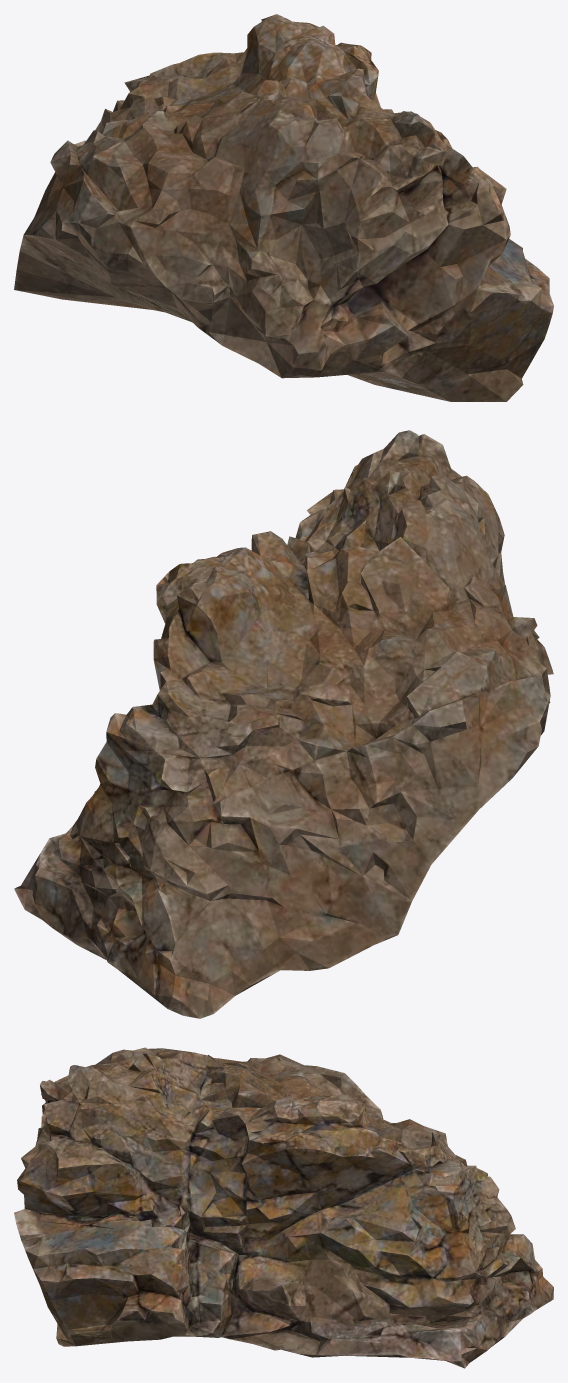
Rendered from boulder_01.glb.
The picture shows the model from 3 angles, top to bottom: view 1: azimuth 30°, elevation 25°; view 2: azimuth 150°, elevation 25°; view 3: azimuth 270°, elevation 25°; orthographic projection. The views are drawn at different scales.
Parts seen in each view (by area): view 1: boulder_01; view 2: boulder_01; view 3: boulder_01.
Part boxes in pixels (x1=…): boulder_01: x1=14, y1=14, x2=553, y2=401; boulder_01: x1=14, y1=430, x2=553, y2=1018; boulder_01: x1=14, y1=1047, x2=553, y2=1368.
Bounding box in the file's own units: 1.27 × 1 × 1.82.
Materials: 1 (1 with a texture image).
